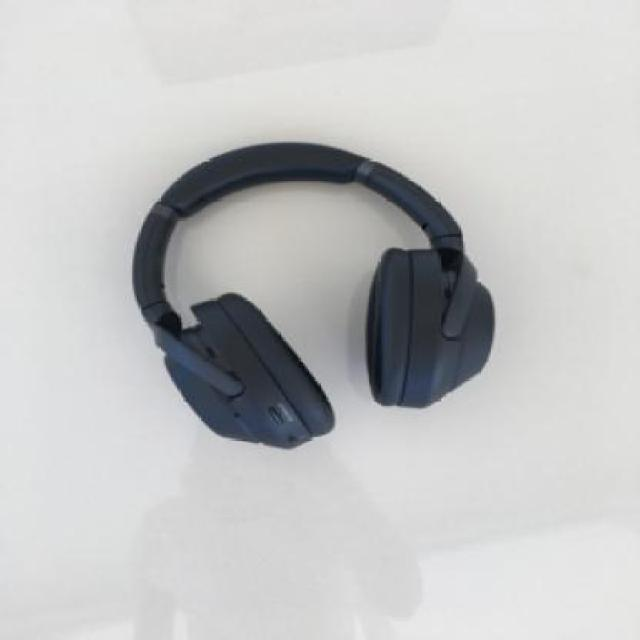earphone: (110, 133, 510, 452)
